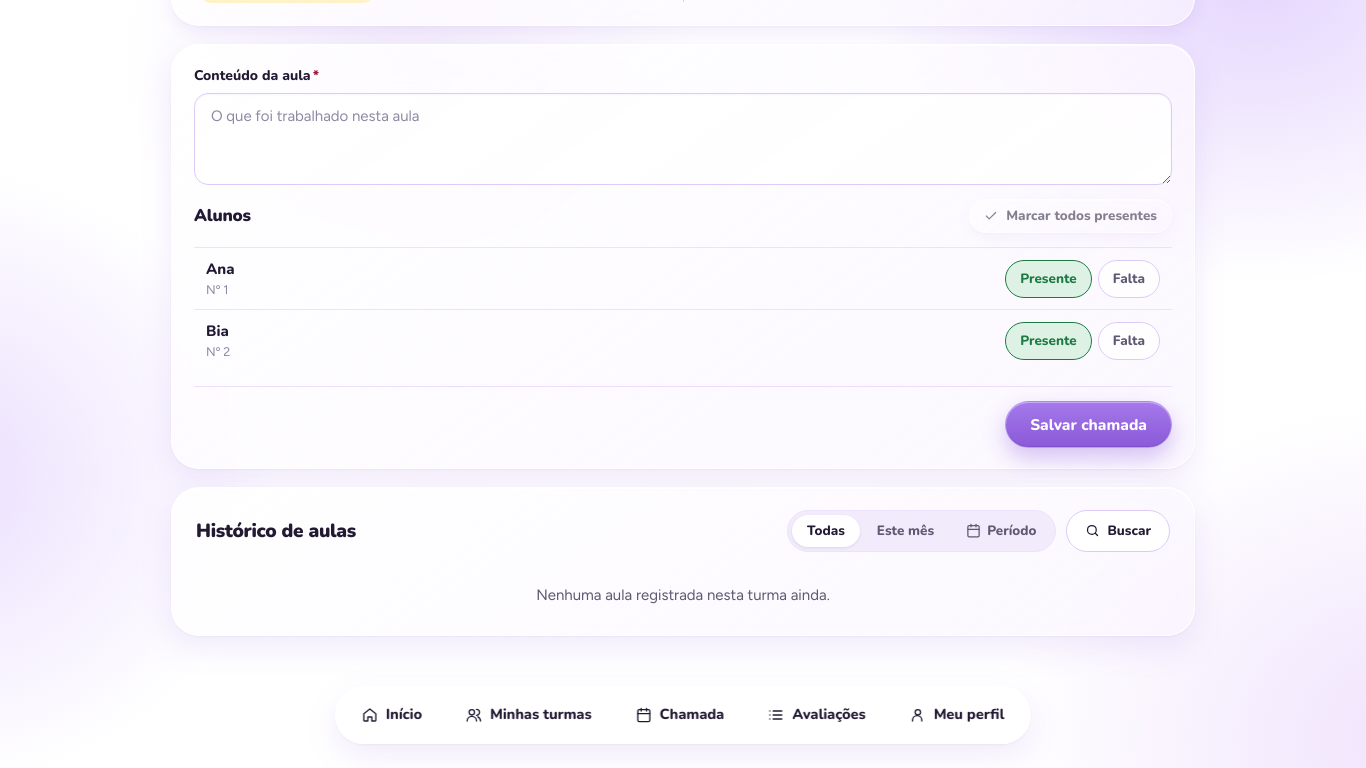
Scenario: Chamada › exige o conteúdo antes de salvar
(page scrolled)
Step 1. Click the button "Salvar chamada" → coordinates (1089, 424), box [1005,401,1172,448]
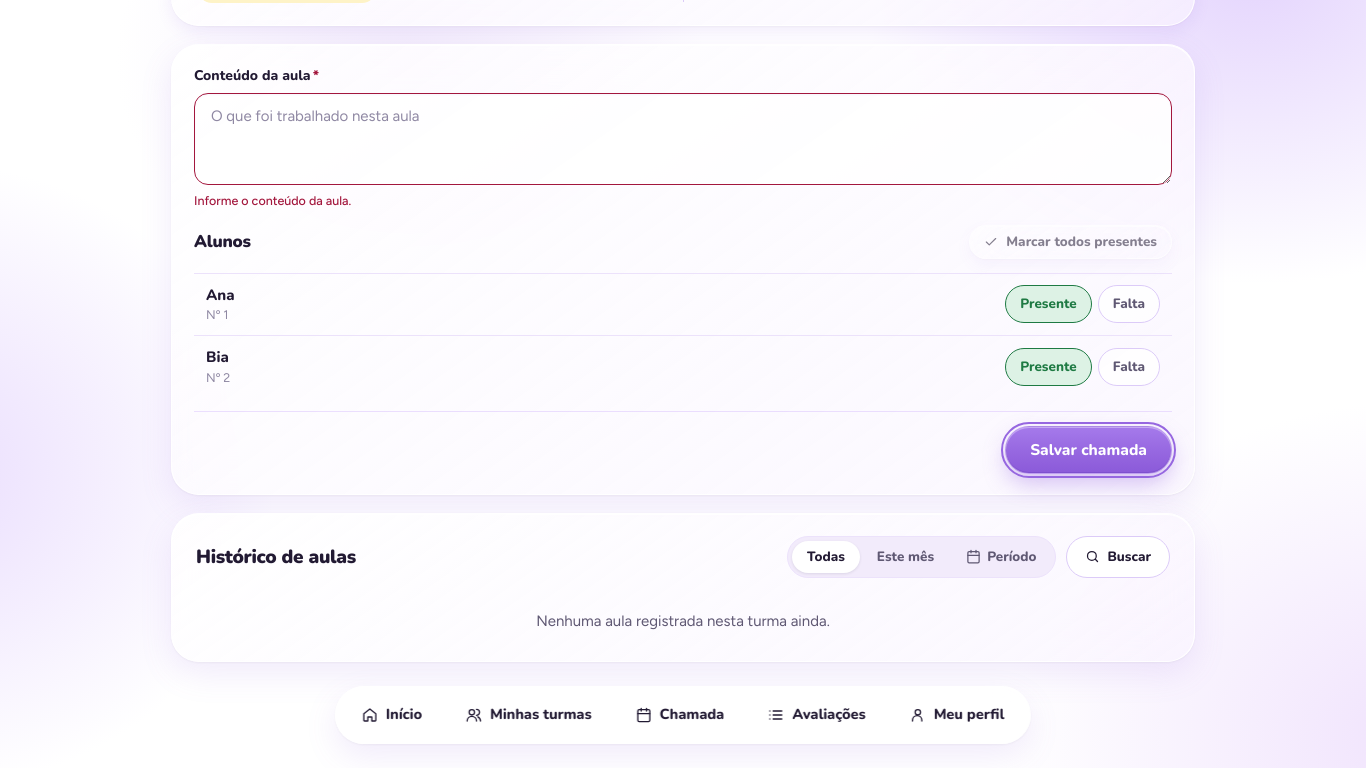
expect the text "Informe o conteúdo da aula." is shown: met, box [194,193,351,208]
